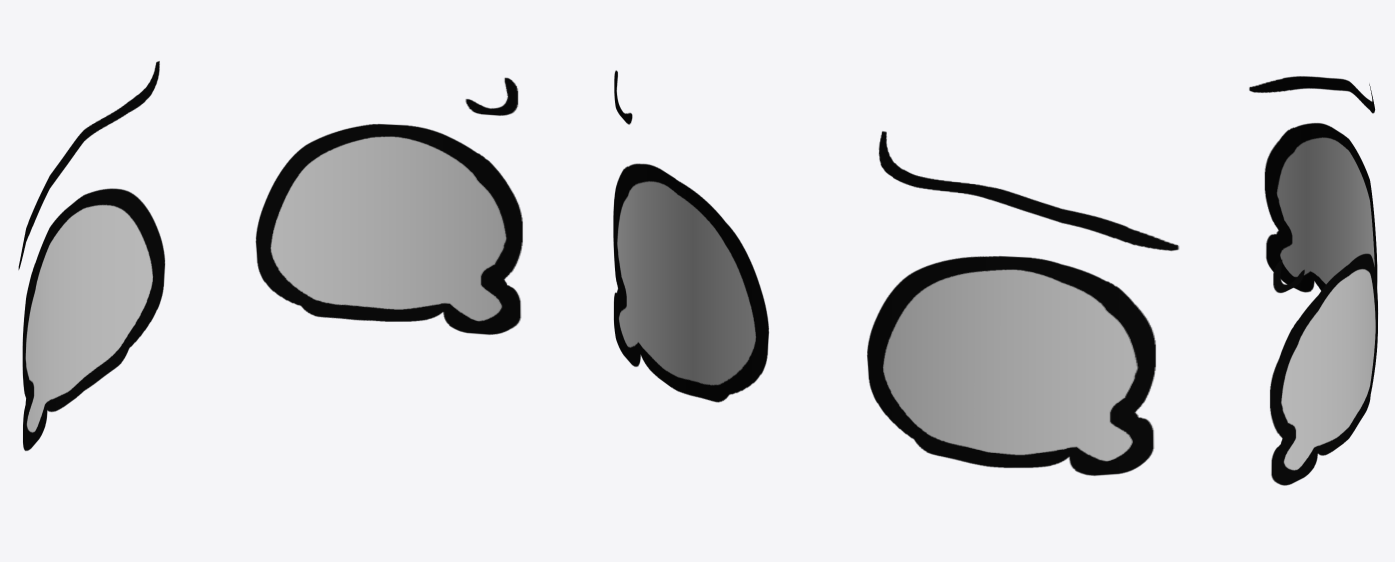
The model's file is 14-Scared-Laughing-Face-eyes.glb.
3 renders of one model, left to right at view 1: azimuth 30°, elevation 25°; view 2: azimuth 150°, elevation 25°; view 3: azimuth 270°, elevation 25°, orthographic. The views are drawn at different scales.
Visible parts, largest first — view 1: 14-Scared-Laughing-Face-eyes; view 2: 14-Scared-Laughing-Face-eyes; view 3: 14-Scared-Laughing-Face-eyes.
Boxes of the visible parts, <box> form: 14-Scared-Laughing-Face-eyes: <box>18,61,522,450</box>; 14-Scared-Laughing-Face-eyes: <box>613,70,1178,475</box>; 14-Scared-Laughing-Face-eyes: <box>1249,76,1377,485</box>.
Bounding box in the file's own units: 1.05 × 0.7492 × 0.2717.
Materials: 1 (1 with a texture image).
